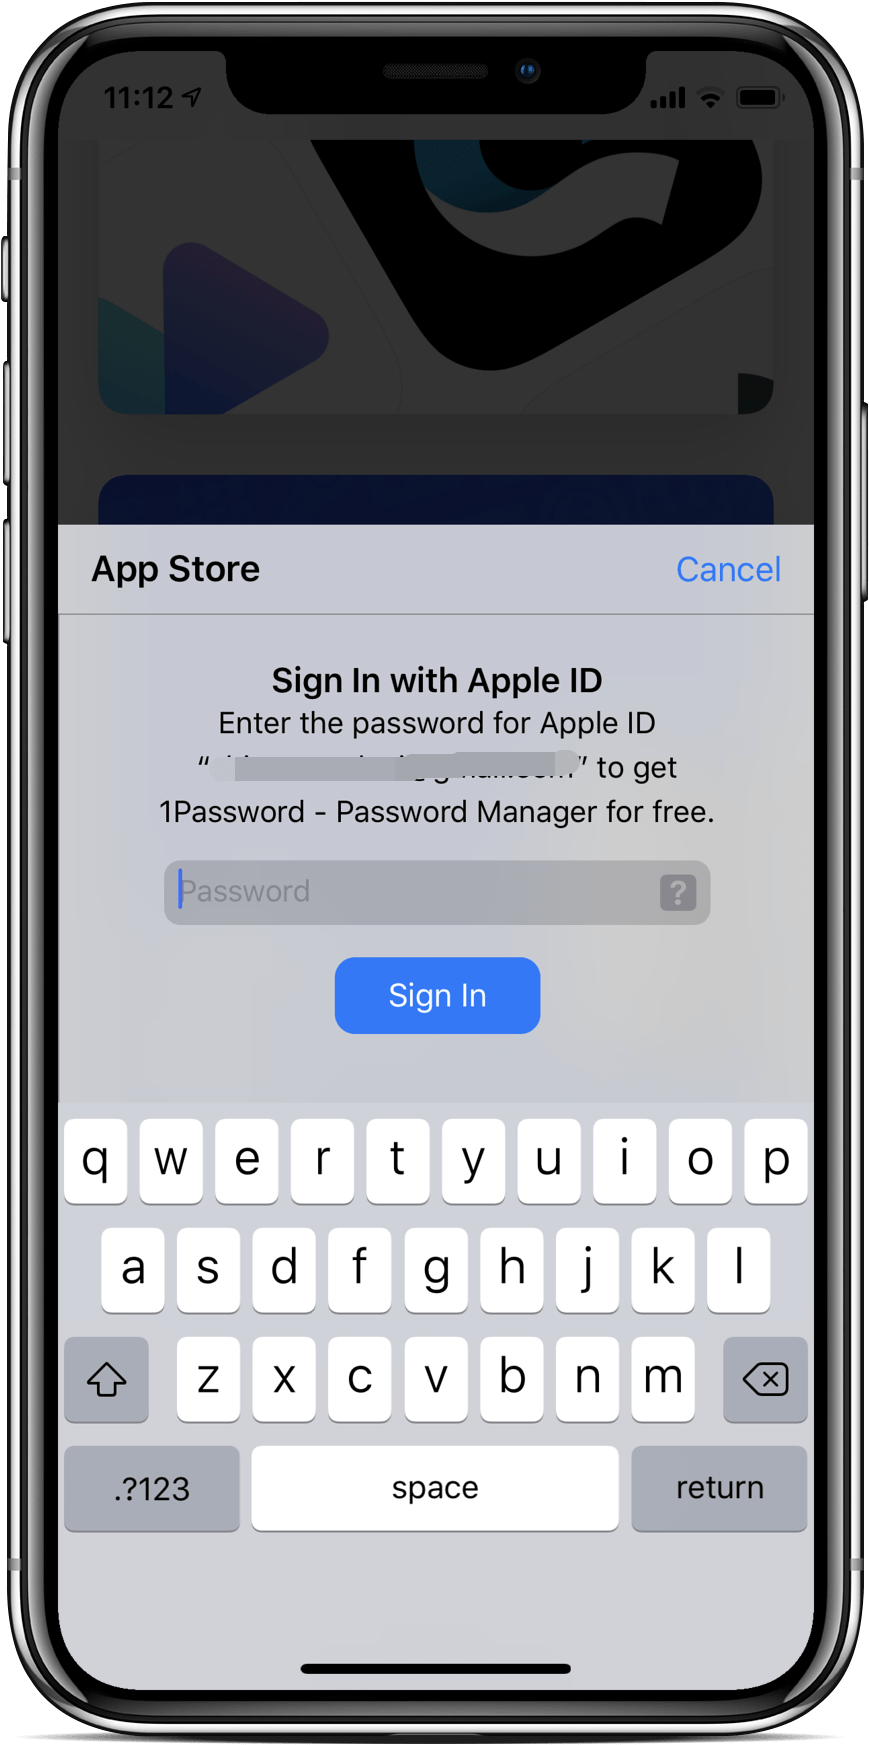phone: (1, 1, 853, 1697)
